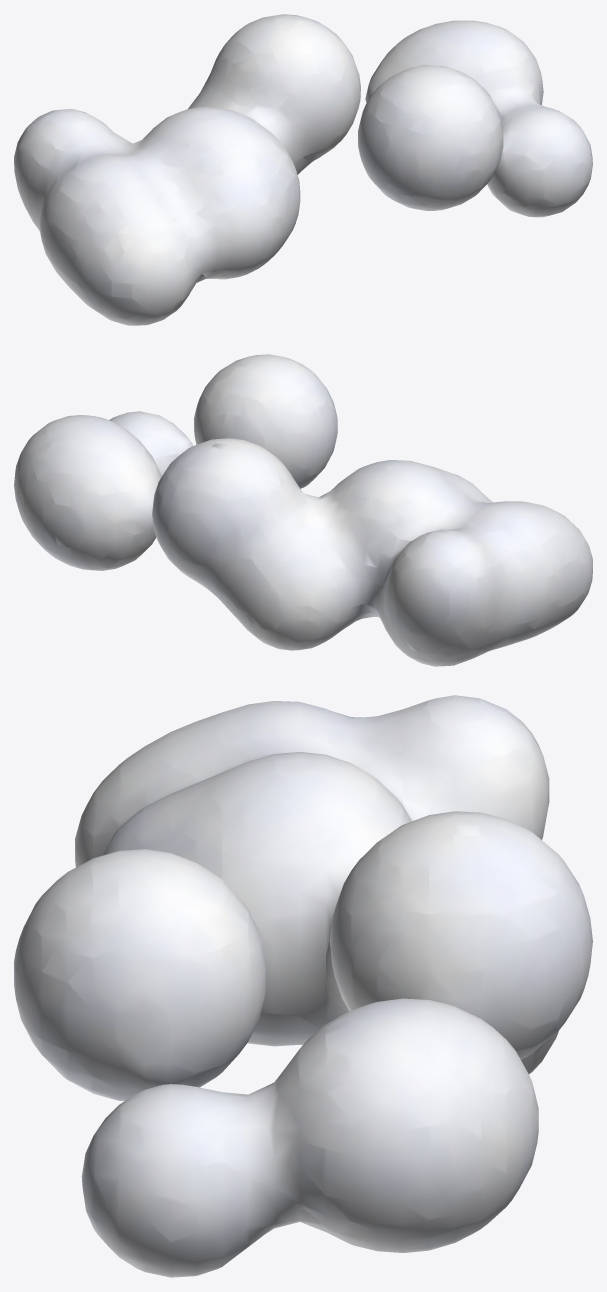
File: cloud.glb
3 renders of one model, top to bottom at view 1: azimuth 30°, elevation 25°; view 2: azimuth 150°, elevation 25°; view 3: azimuth 270°, elevation 25°, orthographic. The views are drawn at different scales.
Visible parts, largest first — view 1: cloud; view 2: cloud; view 3: cloud.
Part boxes in pixels (x1,y1,x2,y2): cloud: (14,14,592,325); cloud: (14,354,592,666); cloud: (14,695,592,1277).
Size of the model in its own units: 3.2 by 1.14 by 1.79.
Materials: 1 (1 with a texture image).
